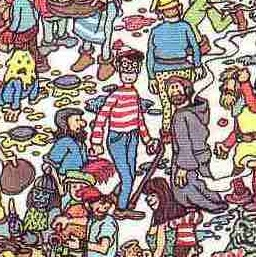waldo: (110, 37, 145, 220), (108, 36, 146, 138), (113, 38, 144, 89)
